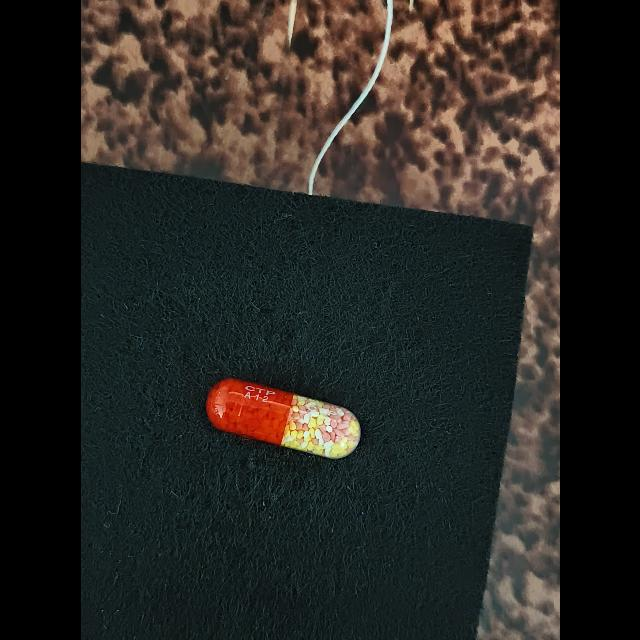Intact Capsule: (205, 378, 360, 459)
